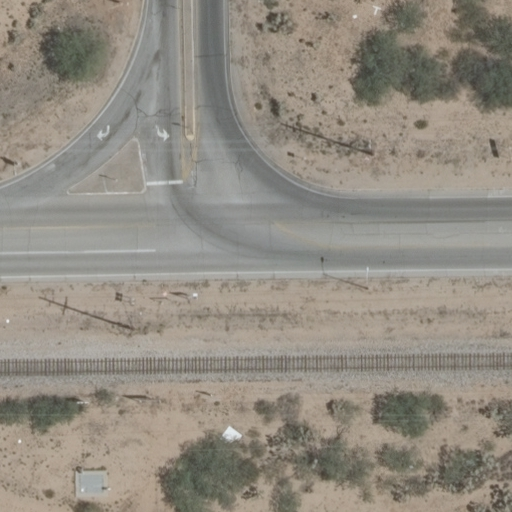DT: (362, 137, 378, 162), (125, 315, 139, 340)
